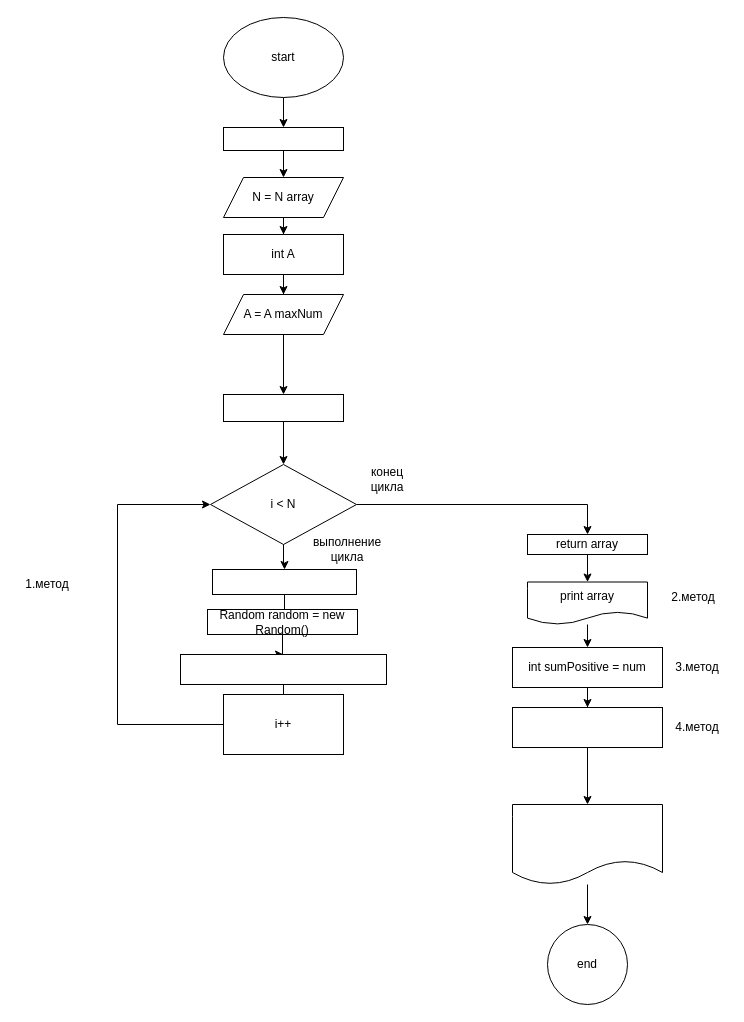
Image size: 744x1022. Some labels were removed from this diagram. The box of each missing label's shape, as (x1, y1, x2, y2) in pixels:
array[i] =random.nextInt(A+1): (180, 654, 386, 684)
i = 0: (222, 394, 344, 422)
int N: (222, 126, 344, 150)
int sumNegative = num: (512, 706, 662, 748)
int[] array = new int[N]: (212, 568, 356, 594)
print sumNegative print sumPositive: (512, 804, 662, 884)
